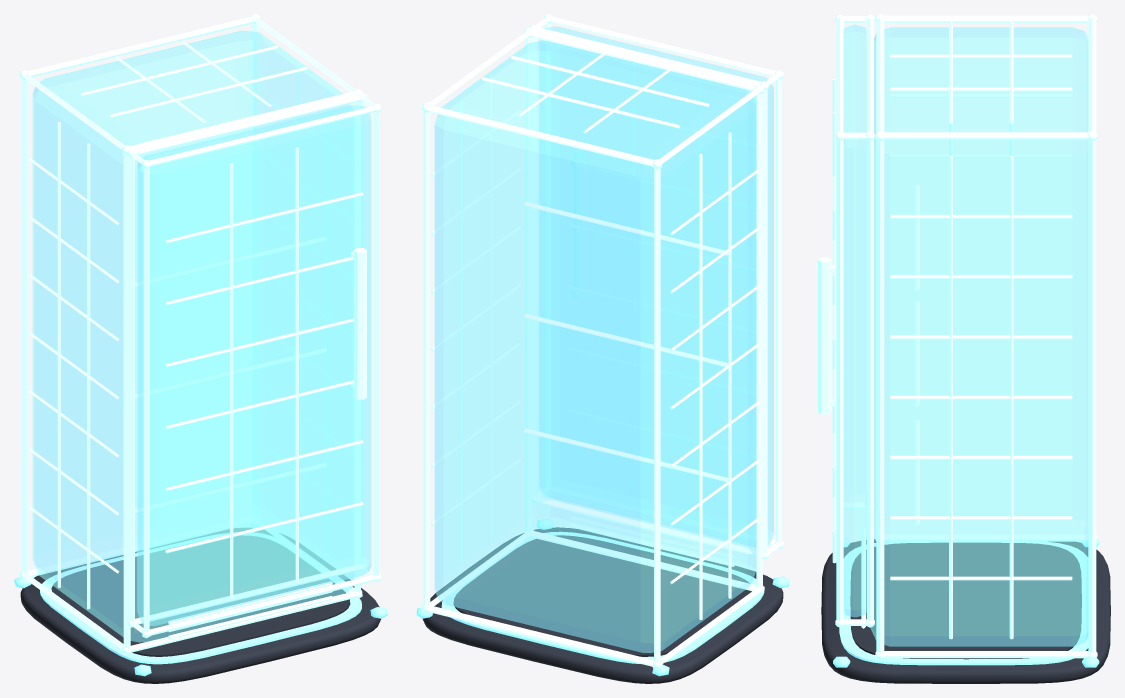
The model's file is geladeira-holograma.glb.
3 views of the same model, side by side, from view 1: azimuth 30°, elevation 25°; view 2: azimuth 150°, elevation 25°; view 3: azimuth 270°, elevation 25° (orthographic). The views are drawn at different scales.
Parts seen in each view (by area): view 1: geladeira, porta, projetor; view 2: geladeira, porta, projetor; view 3: geladeira, projetor, porta.
Boxes of the visible parts, x1=… form: geladeira: x1=20, y1=14, x2=362, y2=655; porta: x1=127, y1=93, x2=381, y2=638; projetor: x1=14, y1=520, x2=387, y2=683; geladeira: x1=421, y1=28, x2=764, y2=668; porta: x1=529, y1=14, x2=783, y2=559; projetor: x1=416, y1=519, x2=789, y2=683; geladeira: x1=861, y1=14, x2=1097, y2=659; projetor: x1=821, y1=537, x2=1110, y2=683; porta: x1=818, y1=14, x2=874, y2=627.
Bounding box in the file's own units: 0.96 × 1.79 × 0.87.
